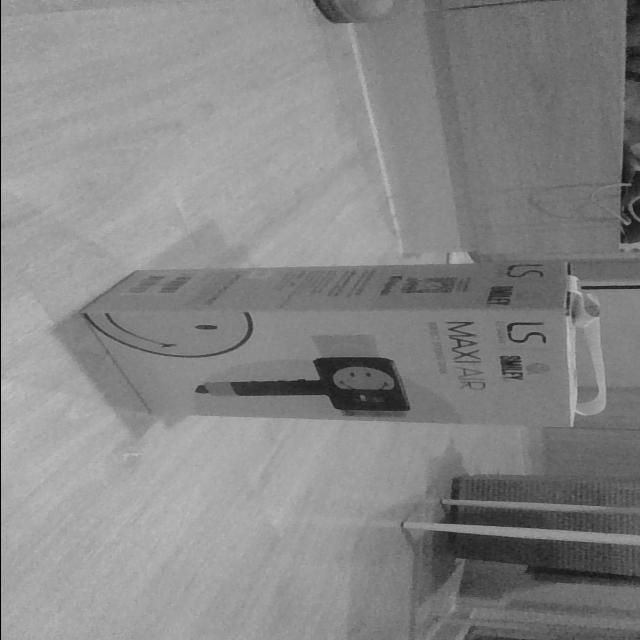Dryer: (78, 258, 607, 430)
